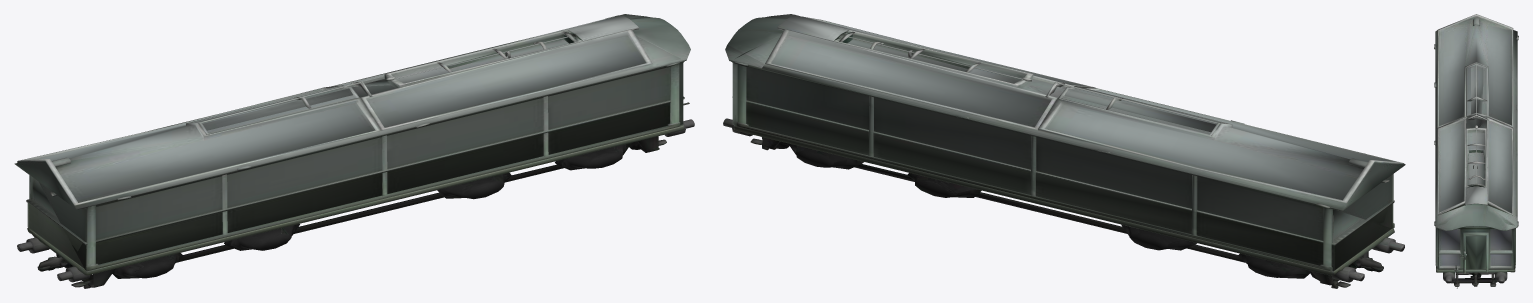
Rendered from coach_glass.glb.
3 views of the same model, side by side, from view 1: azimuth 30°, elevation 25°; view 2: azimuth 150°, elevation 25°; view 3: azimuth 270°, elevation 25° (orthographic). The views are drawn at different scales.
Visible parts, largest first — view 1: coach_glass_LOD0; view 2: coach_glass_LOD0; view 3: coach_glass_LOD0.
Boxes of the visible parts, x1,y1,x2,y2 form: coach_glass_LOD0: [14, 14, 694, 288]; coach_glass_LOD0: [723, 14, 1405, 288]; coach_glass_LOD0: [1434, 14, 1518, 288].
Size of what is drawn, in the model's own units: 16 by 3 by 2.8.
1 material, 1 textured.
